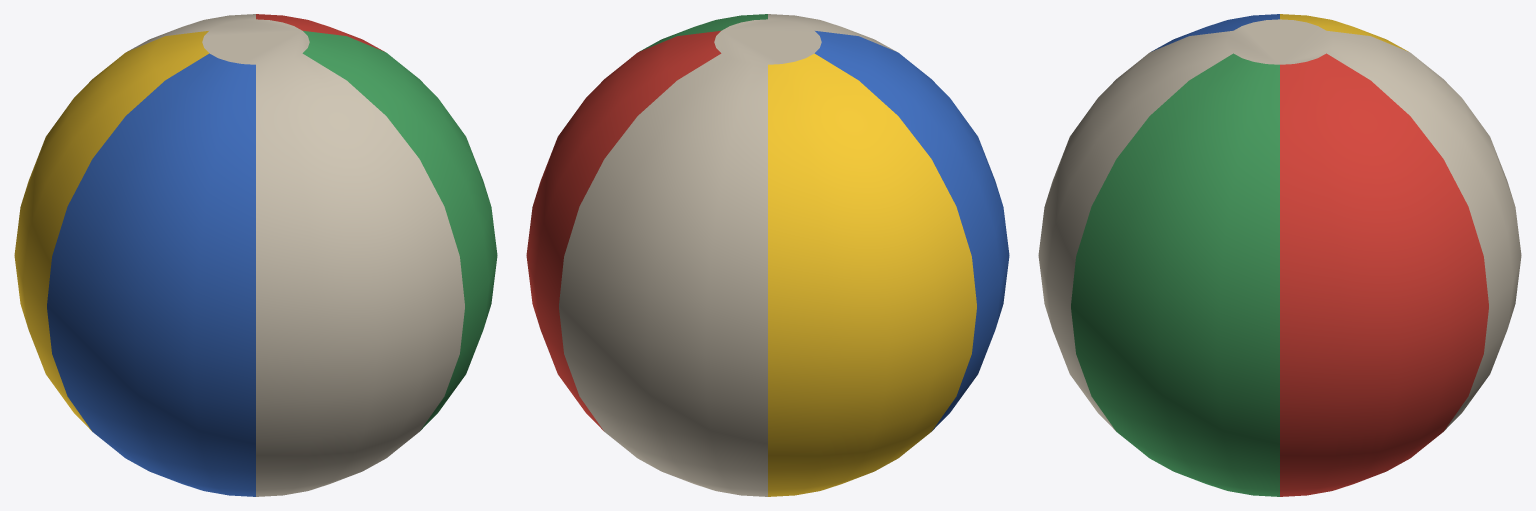
Rendered from toy_ball.fbx.
The picture shows the model from 3 angles, left to right: view 1: azimuth 30°, elevation 25°; view 2: azimuth 150°, elevation 25°; view 3: azimuth 270°, elevation 25°; orthographic projection.
Visible parts, largest first — view 1: cream_1, blue_1, green_1, yellow_1, red_1; view 2: cream_1, yellow_1, blue_1, red_1, green_1; view 3: green_1, red_1, cream_1, blue_1, yellow_1.
Boxes of the visible parts, left/top/right/bottom form: cream_1: left=127, top=14, right=464, bottom=496; blue_1: left=47, top=53, right=255, bottom=496; green_1: left=302, top=31, right=497, bottom=430; yellow_1: left=14, top=31, right=209, bottom=430; red_1: left=256, top=14, right=384, bottom=51; cream_1: left=559, top=14, right=896, bottom=496; yellow_1: left=768, top=53, right=976, bottom=496; blue_1: left=814, top=31, right=1009, bottom=430; red_1: left=526, top=31, right=721, bottom=430; green_1: left=639, top=14, right=767, bottom=51; green_1: left=1071, top=53, right=1279, bottom=496; red_1: left=1280, top=53, right=1488, bottom=496; cream_1: left=1038, top=19, right=1521, bottom=430; blue_1: left=1151, top=14, right=1279, bottom=51; yellow_1: left=1280, top=14, right=1408, bottom=51.
Size of the model in its own units: 0.864 by 0.8423 by 0.864.
